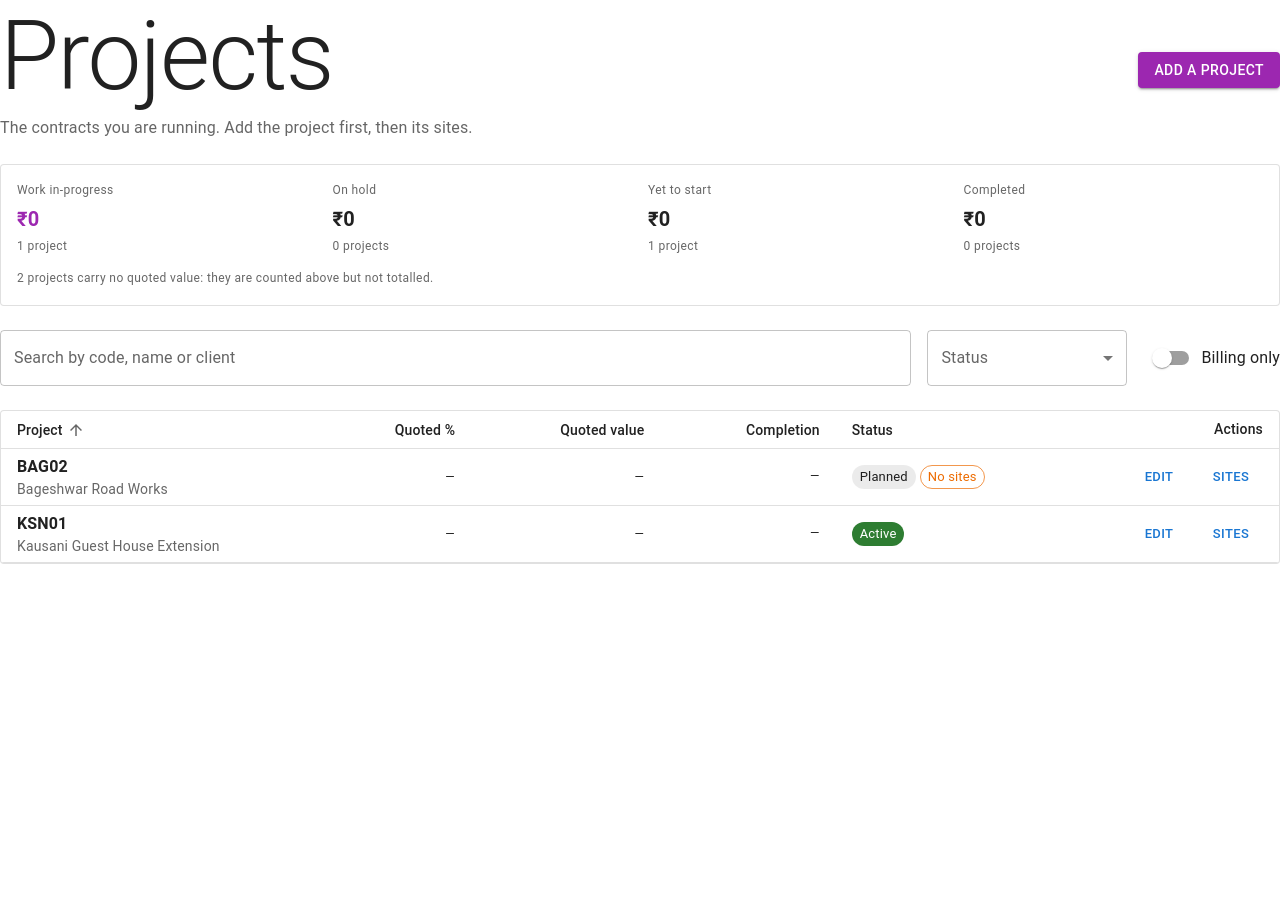
Test: ProjectsPage › rejects an amount that is not a number before sending it
The image size is (1280, 900).
Click the button "Add a project". click: (1209, 70)
box: [1138, 52, 1279, 88]
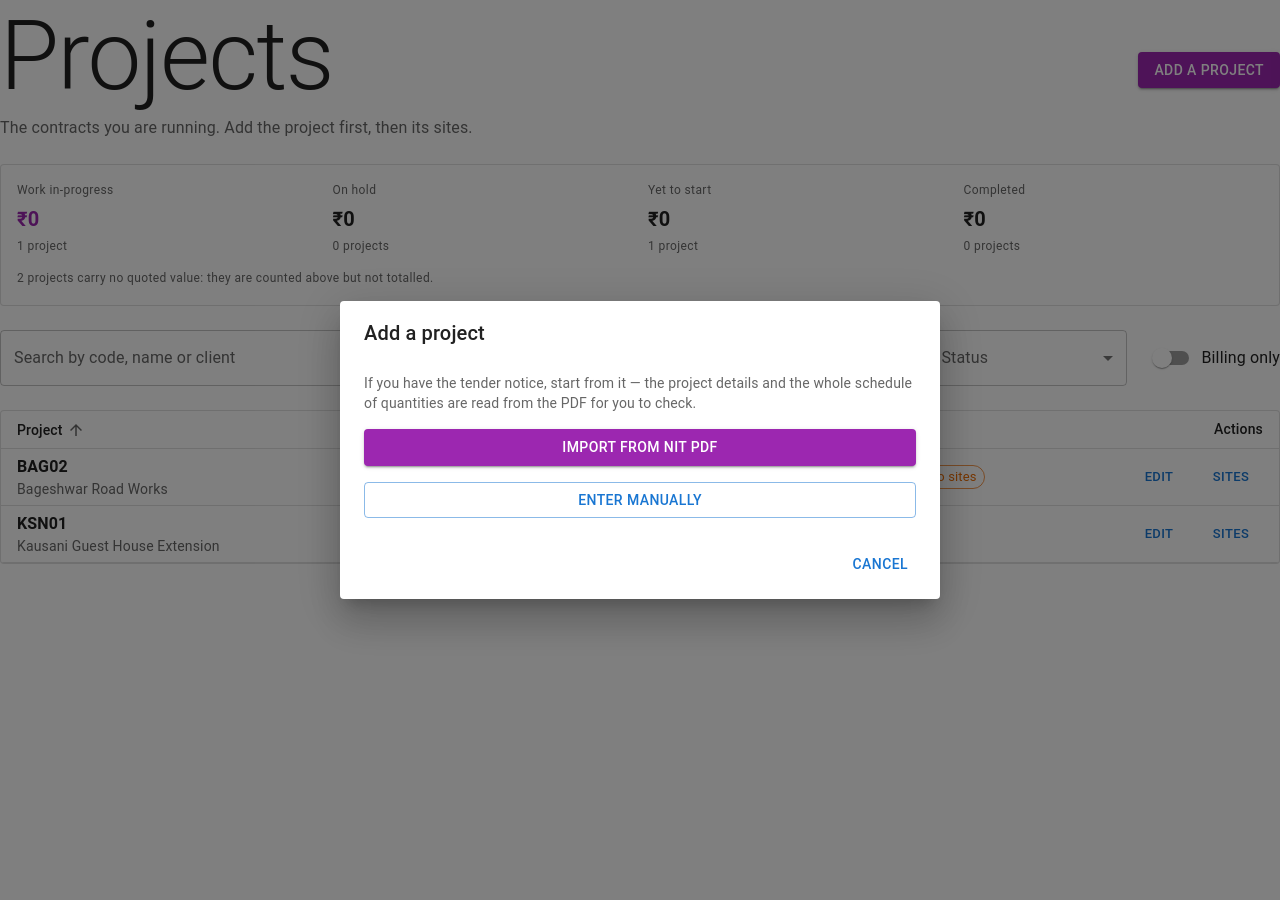
// Adding now opens on a choice: start from the tender PDF, or type it in.
Click the button "Enter manually". click: (640, 500)
box: [364, 482, 916, 518]
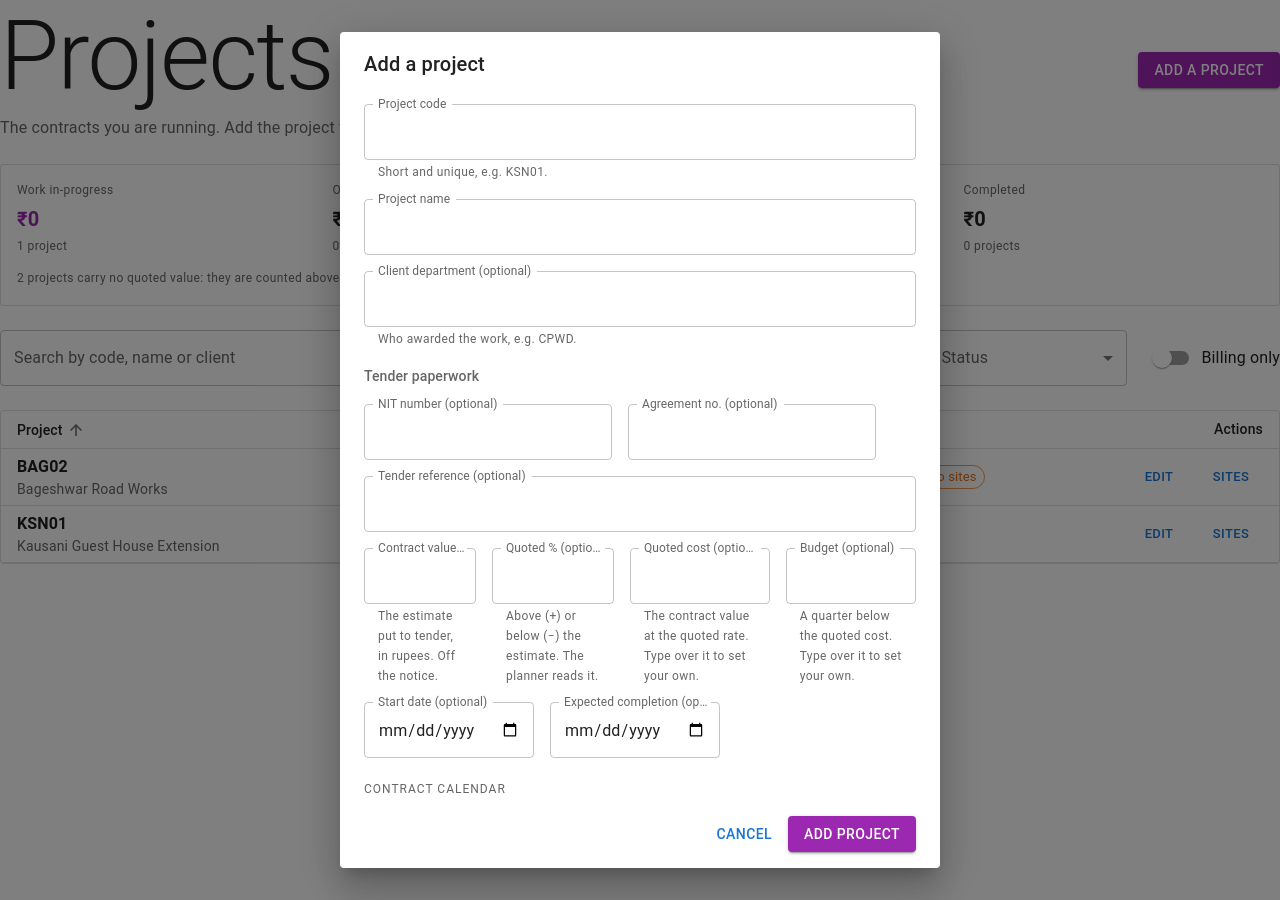
Type "ALM03" into the field labelled "Project code". click: (640, 132)
box: [364, 104, 916, 160]
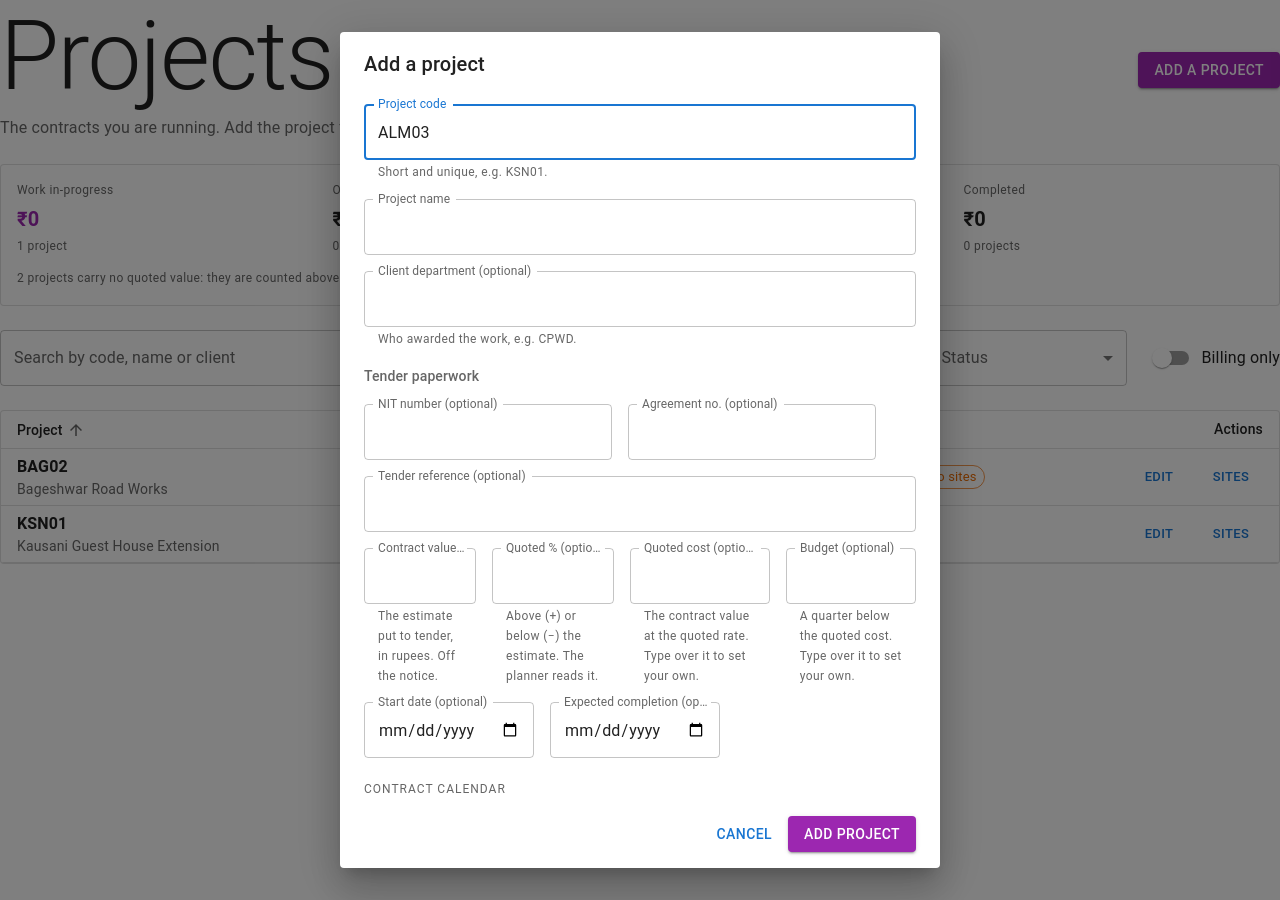
Type "Almora Block C" into the field labelled "Project name". click: (640, 227)
box: [364, 199, 916, 255]
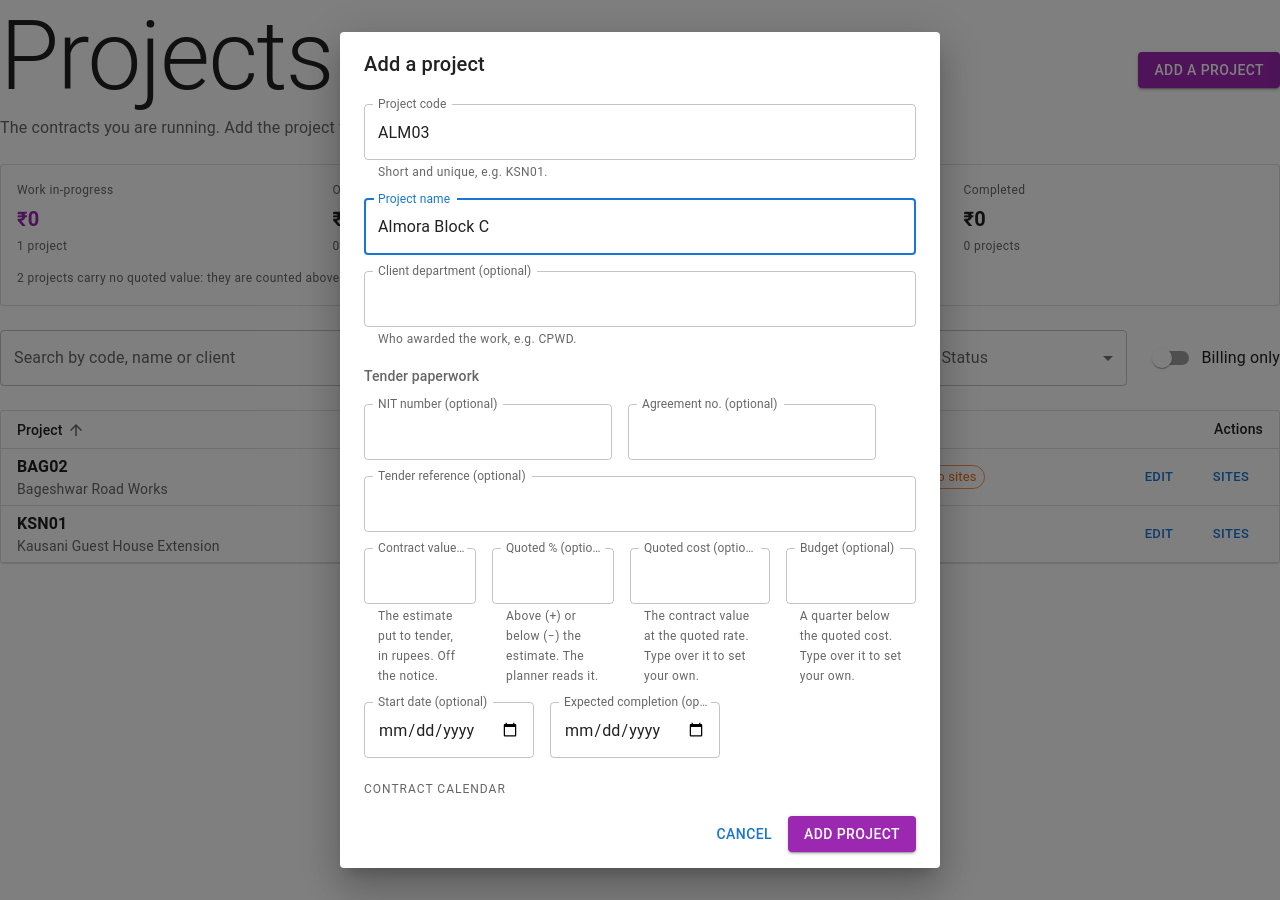
Type "18.5 lakh" into the field labelled "Contract value (optional)". click: (420, 576)
box: [364, 548, 476, 604]
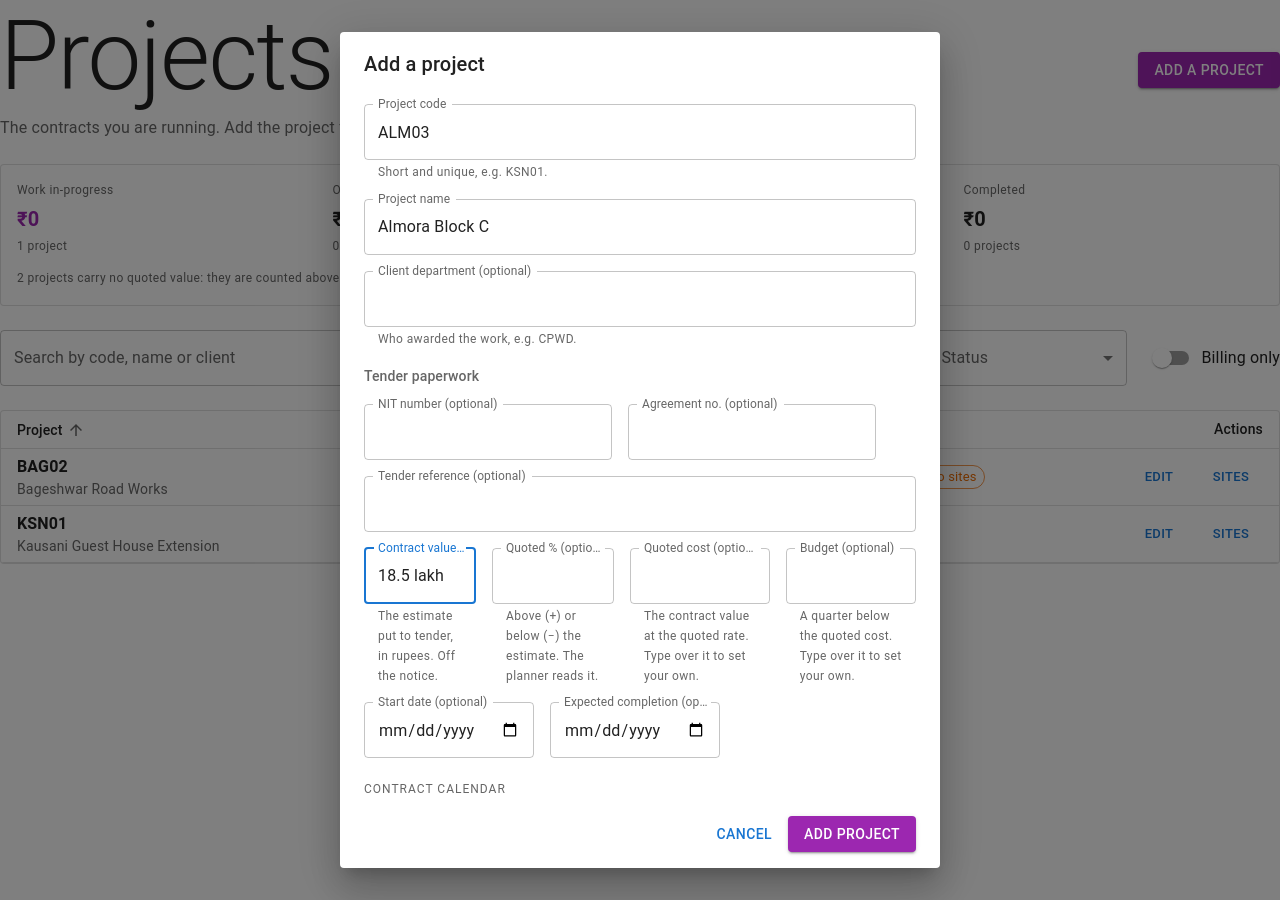
Click the button "Add project". click: (852, 834)
box: [788, 816, 916, 852]
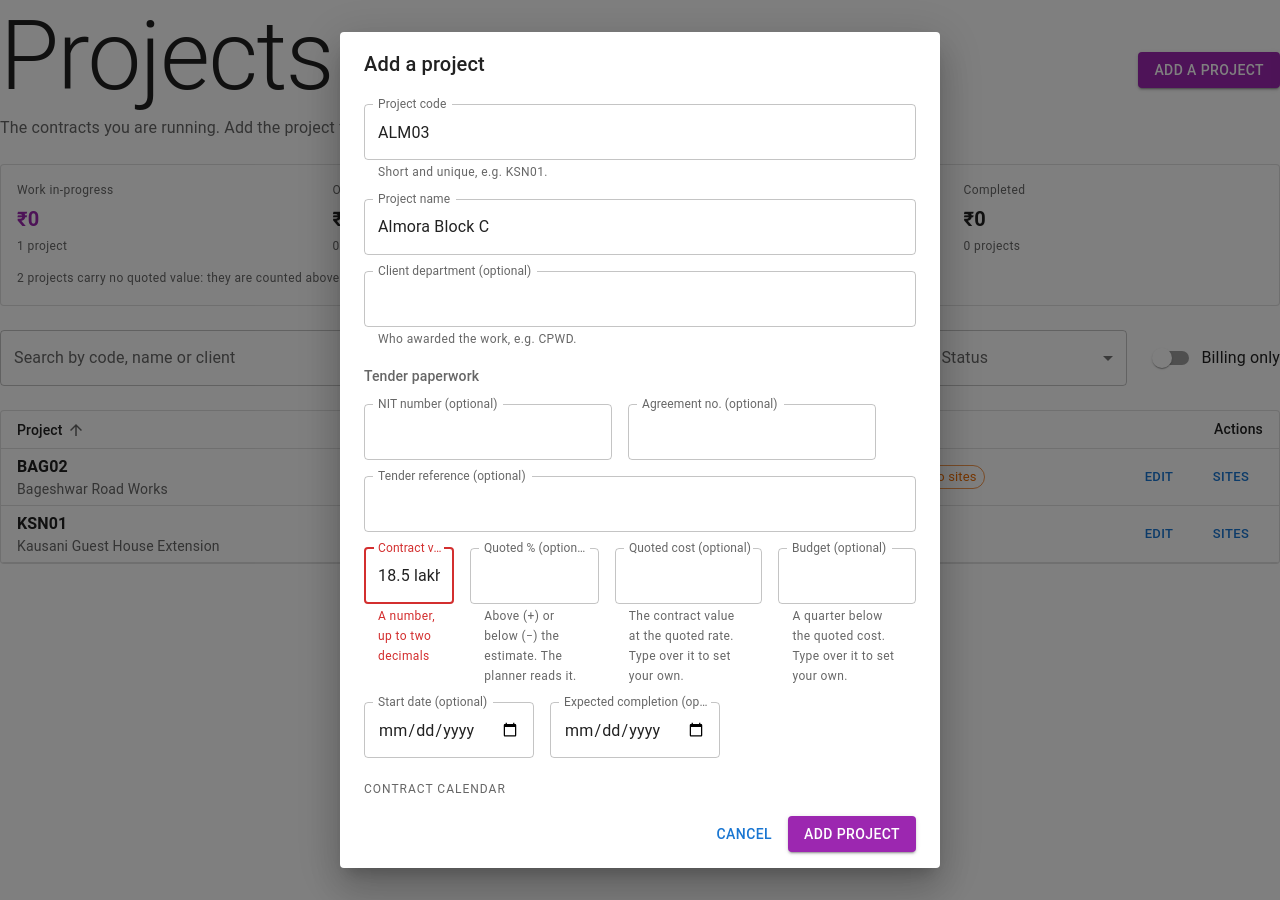
Result: the text "A number, up to two decimals" is shown at [378, 607, 440, 666]
